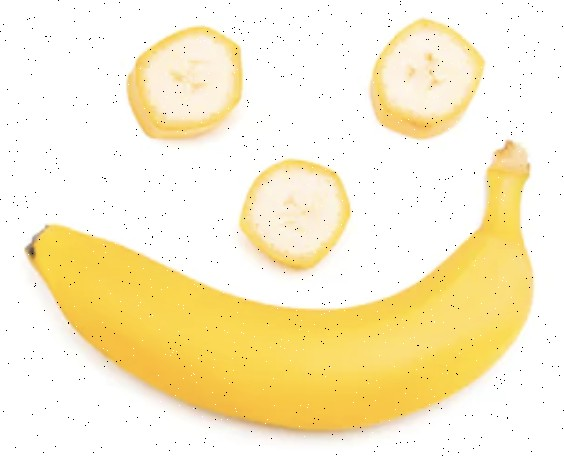fresh_banana: (26, 140, 535, 431)
